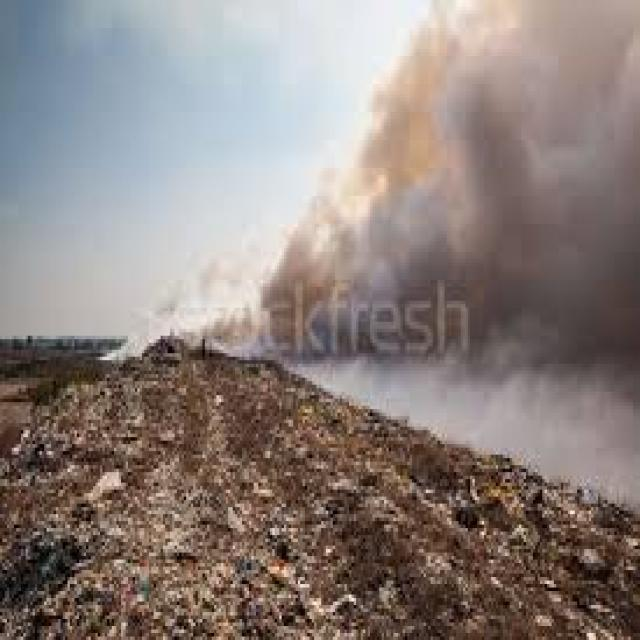Smoke: (346, 0, 640, 350), (305, 354, 640, 540), (343, 13, 458, 202), (263, 189, 333, 341), (180, 226, 260, 341), (112, 302, 176, 360), (229, 315, 277, 359)
